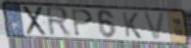6: (97, 9, 118, 40)
K: (121, 11, 143, 40)
P: (70, 7, 94, 38)
R: (44, 5, 73, 38)
V: (141, 11, 167, 42)
X: (22, 5, 48, 37)
